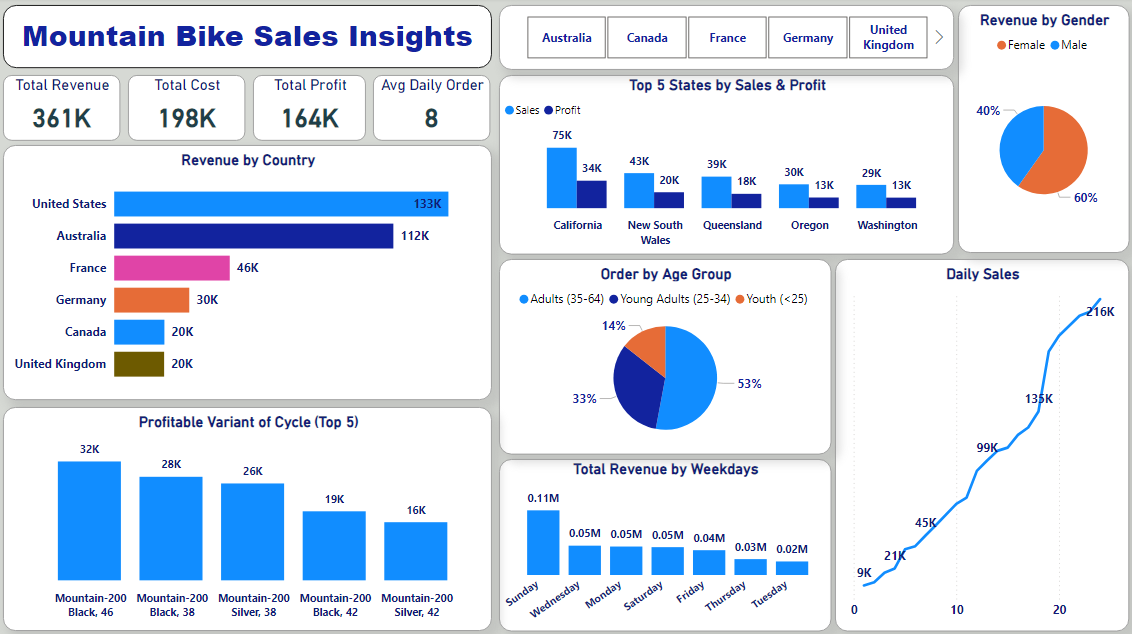

The page's visual inventory and layout, read from the dashboard file:
{"tool":"powerbi","page":{"name":"Page 1","canvas":[1280,720],"ordinal":0},"visuals":[{"type":"card","title":"Total Profit","fields":{"Values":["Sum(Cost. Profit )"]},"box":[290.2,86.2,127,73.7],"z":0},{"type":"card","title":"Total Revenue","fields":{"Values":["Sum(Cost.Total Revenue)"]},"box":[9.1,86.2,131.5,73.7],"z":1000},{"type":"card","title":"Total Cost","fields":{"Values":["Sum(Cost.Total Cost)"]},"box":[149.7,86.2,131.5,73.7],"z":2000},{"type":"card","title":"Avg Daily Order","fields":{"Values":["Cost.Avg order"]},"box":[425.2,86.2,131.5,73.7],"z":3000},{"type":"clusteredBarChart","title":"Revenue by Country","fields":{"Y":["Sum(Cost.Total Revenue)"],"Category":["Cost.Country"]},"box":[9.1,165.5,549.9,286.8],"z":4000},{"type":"clusteredColumnChart","title":"Top 5 States by Sales & Profit","fields":{"Category":["Cost.State"],"Y":["Sum(Cost.Total Revenue)","Sum(Cost. Profit )"]},"box":[566.9,86.2,512.5,201.8],"z":5000},{"type":"clusteredColumnChart","title":"Total Revenue by Weekdays","fields":{"Category":["Cost.Days"],"Y":["Sum(Cost.Total Revenue)"]},"box":[567,518.6,373.5,193.5],"z":6000},{"type":"lineChart","title":"Daily Sales","fields":{"Category":["Cost.Day"],"Y":["Cost.Rt"]},"box":[945,293.6,330.8,418.5],"z":7000},{"type":"pieChart","title":"Revenue by Gender","fields":{"Y":["Sum(Cost.Total Revenue)"],"Category":["Cost.Customer_Gender"]},"box":[1083.2,7.9,192.7,278.9],"z":8000},{"type":"pieChart","title":"Order by Age Group","fields":{"Y":["Sum(Cost.Order_Quantity)"],"Category":["Cost.Age_Group"]},"box":[566.9,293.6,374.1,219.9],"z":9000},{"type":"clusteredColumnChart","title":"Profitable Variant of Cycle (Top 5)","fields":{"Category":["Cost.Product_Description"],"Y":["Sum(Cost. Profit )"]},"box":[9,460.1,550.1,252],"z":10000},{"type":"slicer","fields":{"Values":["Cost.Country"]},"box":[566.9,7.9,512.5,72.6],"z":11000},{"type":"textbox","box":[9.1,7.9,549.9,71.4],"z":12000}]}

Visuals, with their boxes in screenshot pixels (x1, y1, x2, y2), scaled from the page's 1280x720 canvas onto the 1132x634 screenshot:
"Total Profit" card: [257,76,369,141]
"Total Revenue" card: [8,76,124,141]
"Total Cost" card: [132,76,249,141]
"Avg Daily Order" card: [376,76,492,141]
"Revenue by Country" clusteredBarChart: [8,146,494,398]
"Top 5 States by Sales & Profit" clusteredColumnChart: [501,76,955,254]
"Total Revenue by Weekdays" clusteredColumnChart: [501,457,832,627]
"Daily Sales" lineChart: [836,259,1128,627]
"Revenue by Gender" pieChart: [958,7,1128,253]
"Order by Age Group" pieChart: [501,259,832,452]
"Profitable Variant of Cycle (Top 5)" clusteredColumnChart: [8,405,494,627]
slicer - Cost.Country: [501,7,955,71]
textbox: [8,7,494,70]
